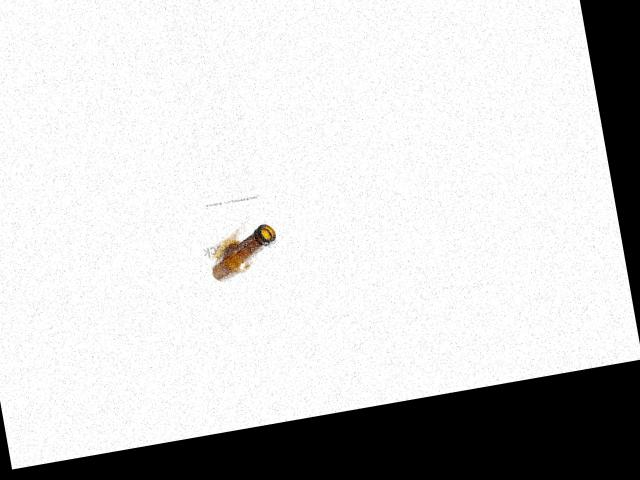beer: (205, 222, 281, 283)
